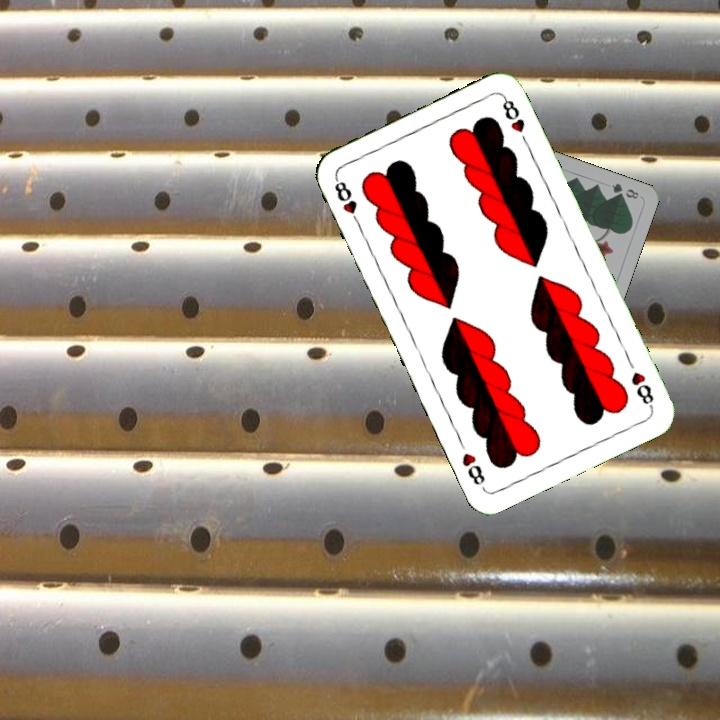G8: (608, 179, 642, 202)
H8: (330, 173, 363, 229), (627, 367, 657, 411)
